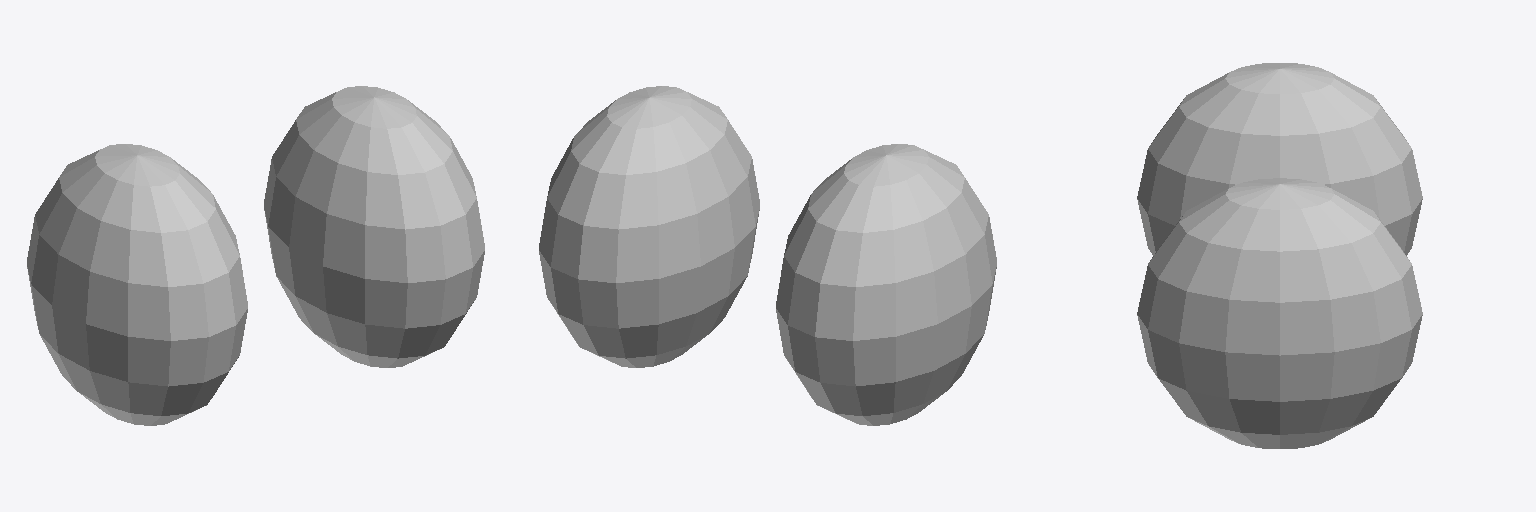
File: alieneyes.obj
3 views of the same model, side by side, from view 1: azimuth 30°, elevation 25°; view 2: azimuth 150°, elevation 25°; view 3: azimuth 270°, elevation 25° (orthographic).
Visible parts, largest first — view 1: Sphere, Sphere.001; view 2: Sphere, Sphere.001; view 3: Sphere, Sphere.001.
Part boxes in pixels (bbox=[...]): Sphere: bbox=[264, 86, 484, 367]; Sphere.001: bbox=[27, 144, 247, 425]; Sphere: bbox=[539, 86, 759, 367]; Sphere.001: bbox=[776, 144, 996, 425]; Sphere: bbox=[1137, 178, 1422, 448]; Sphere.001: bbox=[1137, 63, 1422, 255].
Bounding box in the file's own units: 1.64 × 0.9956 × 0.9956.